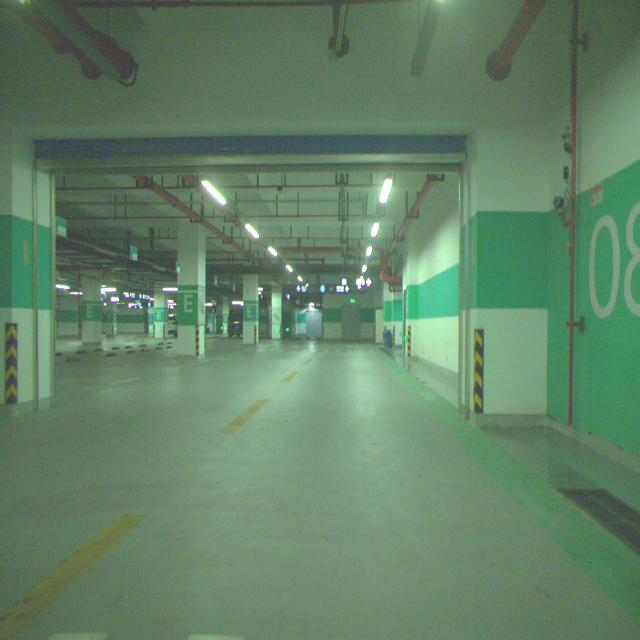pillar: (178, 223, 206, 355), (81, 275, 101, 345), (242, 275, 259, 344)
